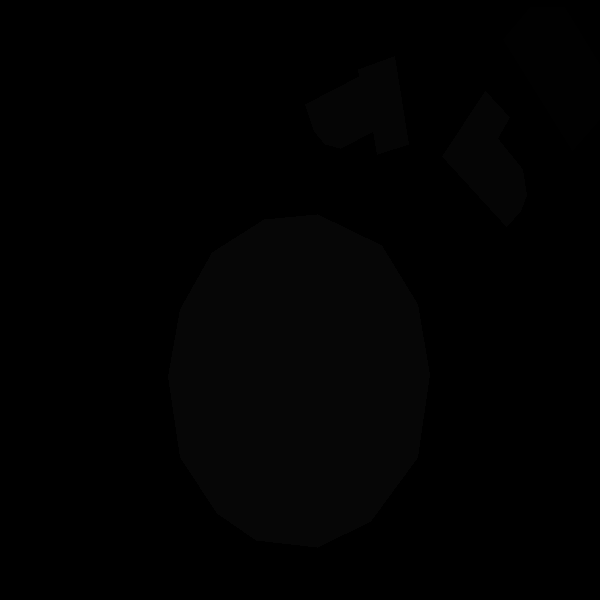label: (498, 1, 599, 151)
lock: (440, 85, 524, 226), (308, 52, 408, 160)
occupy_filter: (168, 218, 435, 547)
